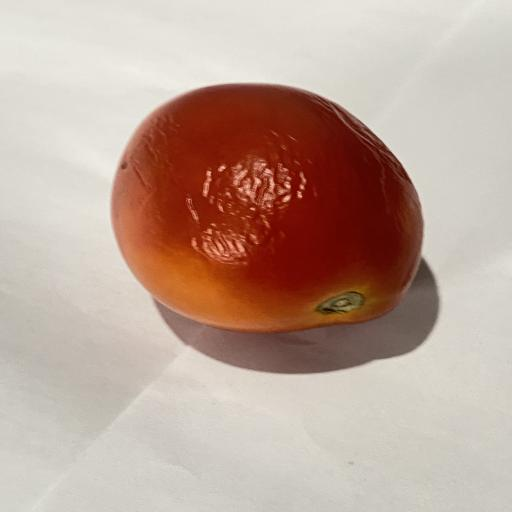spoiled: (111, 84, 423, 332)
